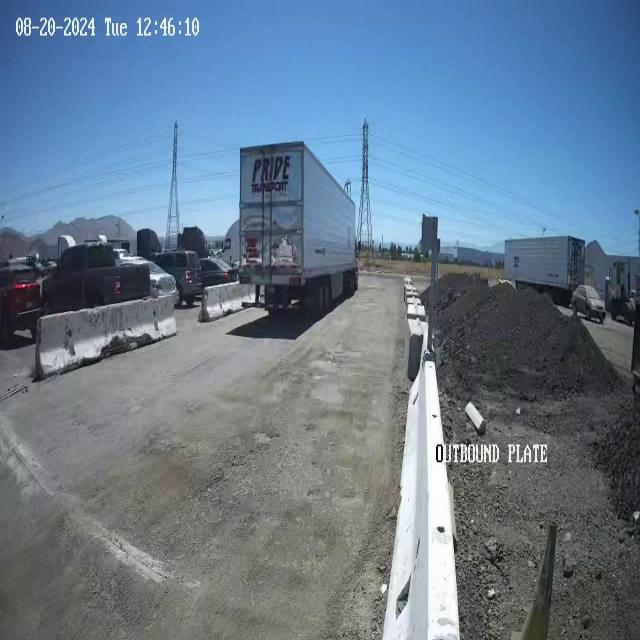TRUCK_CONTAINER: (237, 139, 358, 314)
